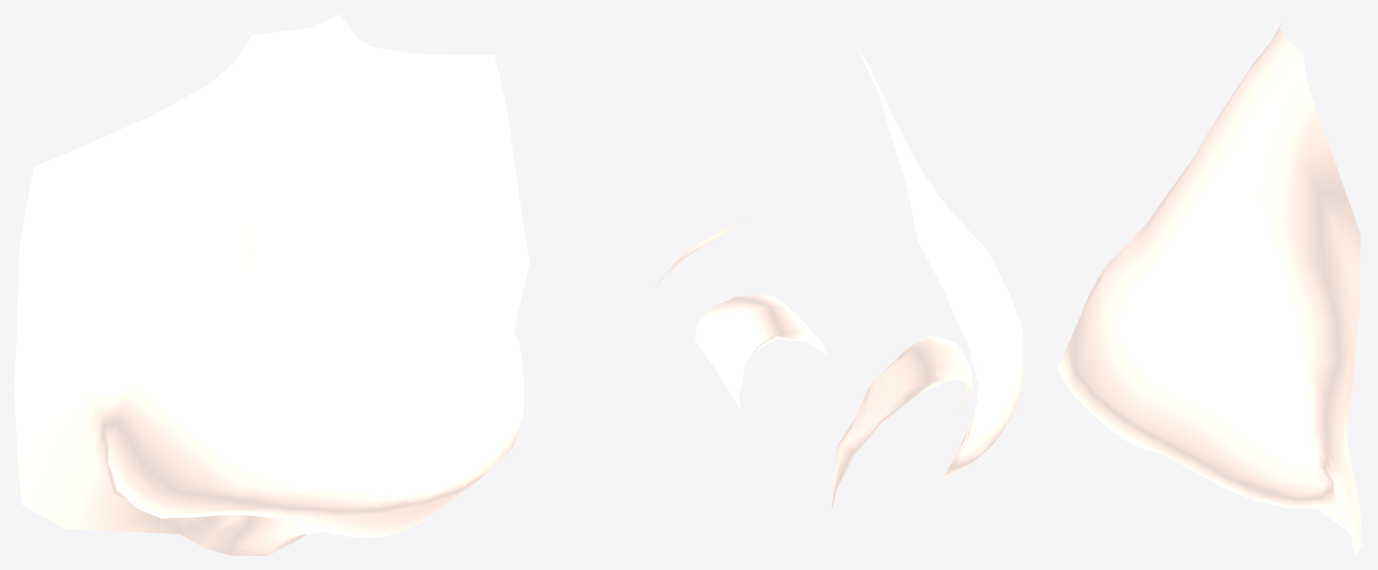
Rendered from nose_01.glb.
3 views of the same model, side by side, from view 1: azimuth 30°, elevation 25°; view 2: azimuth 150°, elevation 25°; view 3: azimuth 270°, elevation 25° (orthographic). The views are drawn at different scales.
Parts seen in each view (by area): view 1: nose_01; view 2: nose_01; view 3: nose_01.
Part boxes in pixels (box(x1,y1,x2,y2)): nose_01: box(14, 14, 529, 555); nose_01: box(638, 34, 1023, 509); nose_01: box(1057, 22, 1362, 555).
Bounding box in the file's own units: 0.000983 × 0.00102 × 0.000556.
